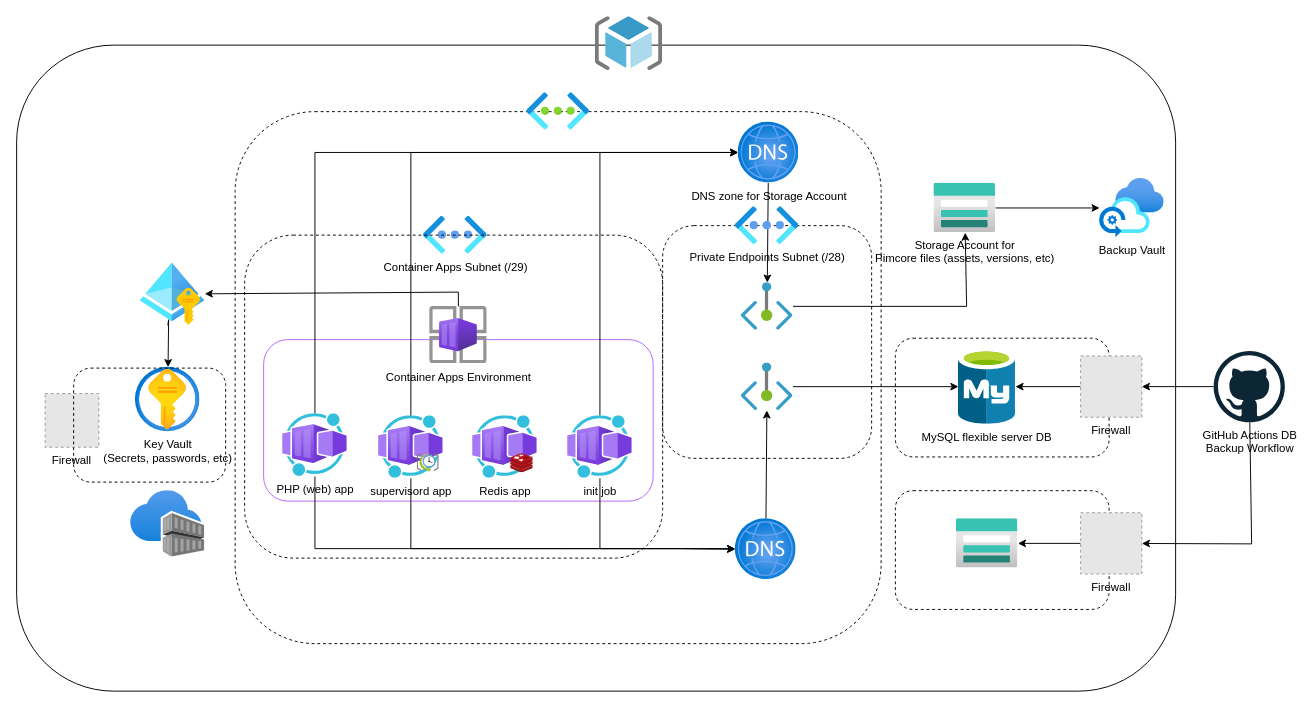
This 1313x708 diagram has some shape labels left out. Grey dashed boxes stand in for pictures. The shapes that lost their labels are listed below. From the top down, each one's centre as x and y in pixels, then its label:
the point at 628,43: Resource Group
the point at 557,111: Virtual Network
the point at 172,293: Managed Identity
the point at 766,306: Private Endpoint for Storage Account
the point at 766,386: Private Endpoint for DB
the point at 167,523: Container Registry (Docker images)
the point at 986,543: Storage Account for DB backups
the point at 765,548: DNS zone for DB
